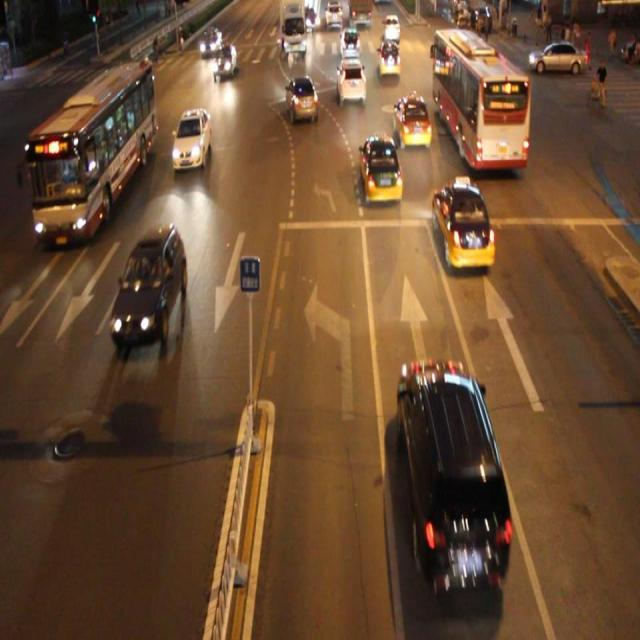car: (397, 358, 508, 596), (111, 225, 187, 346), (434, 182, 493, 270), (356, 136, 402, 203), (172, 107, 211, 167), (393, 92, 431, 150), (287, 76, 318, 123), (335, 59, 366, 105)
van: (29, 60, 154, 242), (433, 27, 528, 171)
